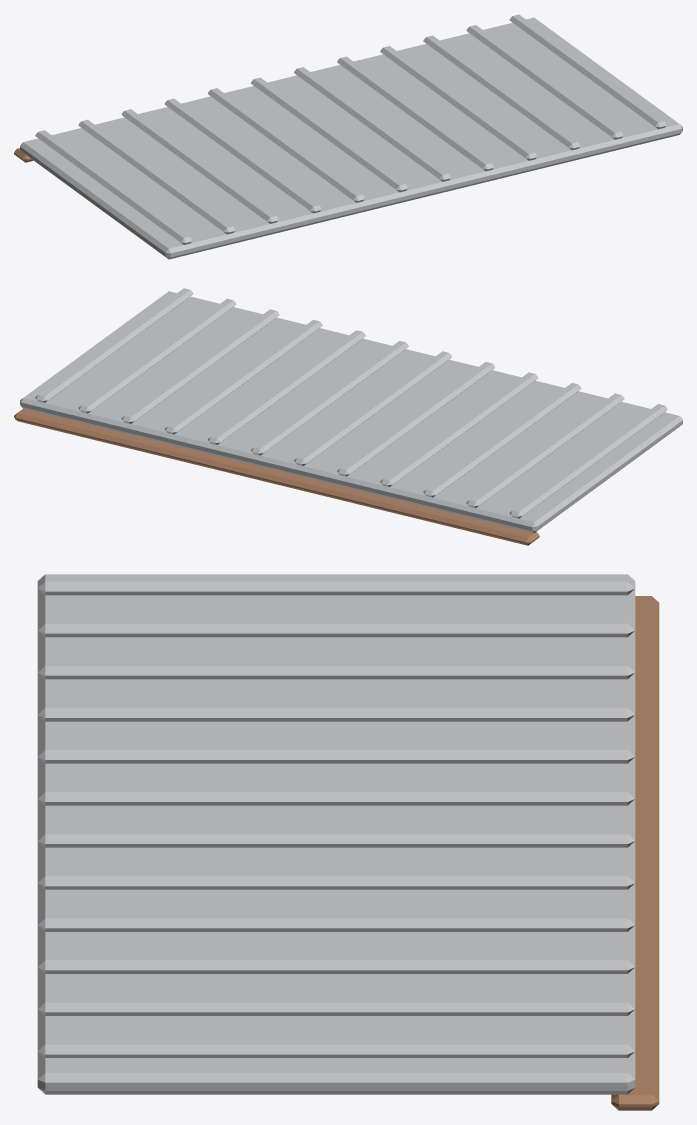
File: roof_corrugated.glb
The picture shows the model from 3 angles, top to bottom: view 1: azimuth 30°, elevation 25°; view 2: azimuth 150°, elevation 25°; view 3: azimuth 270°, elevation 25°; orthographic projection. The views are drawn at different scales.
Parts seen in each view (by area): view 1: roof_corrugated; view 2: roof_corrugated; view 3: roof_corrugated.
Boxes of the visible parts, x1,y1,x2,y2 form: roof_corrugated: [14, 14, 682, 259]; roof_corrugated: [14, 288, 682, 545]; roof_corrugated: [37, 574, 659, 1110].
Size of the model in its own units: 2 by 0.095 by 1.04.
